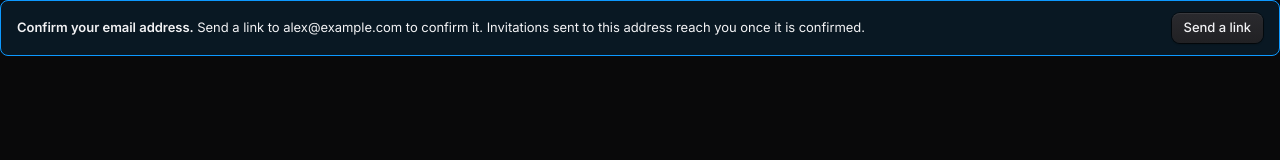
Test: the notice › offers to send a link when none was sent, and names a new address waiting for its link
The width and height of the screenshot is (1280, 160).
Later steps or results of the test are not shown.
Expected: the element "Confirm your email address" shows "Send a link to alex@example.com", x1=0 y1=0 x2=1279 y2=56
Expected: the element "Confirm your email address" does not show "We sent"
Click the button "Send a link". click: (1217,28)
box: x1=1172 y1=13 x2=1263 y2=43
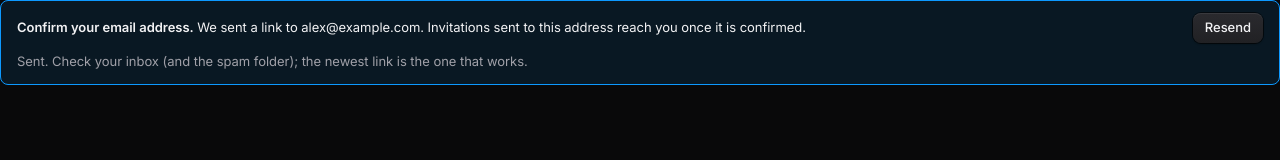
Now the button "Resend" is shown, box x1=1193 y1=13 x2=1263 y2=43
